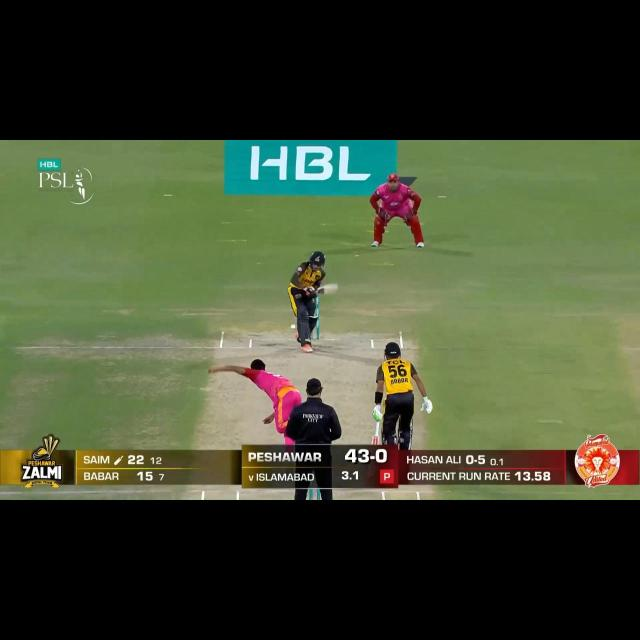bat: (316, 283, 341, 297), (372, 423, 382, 445)
toe: (332, 282, 339, 293)
